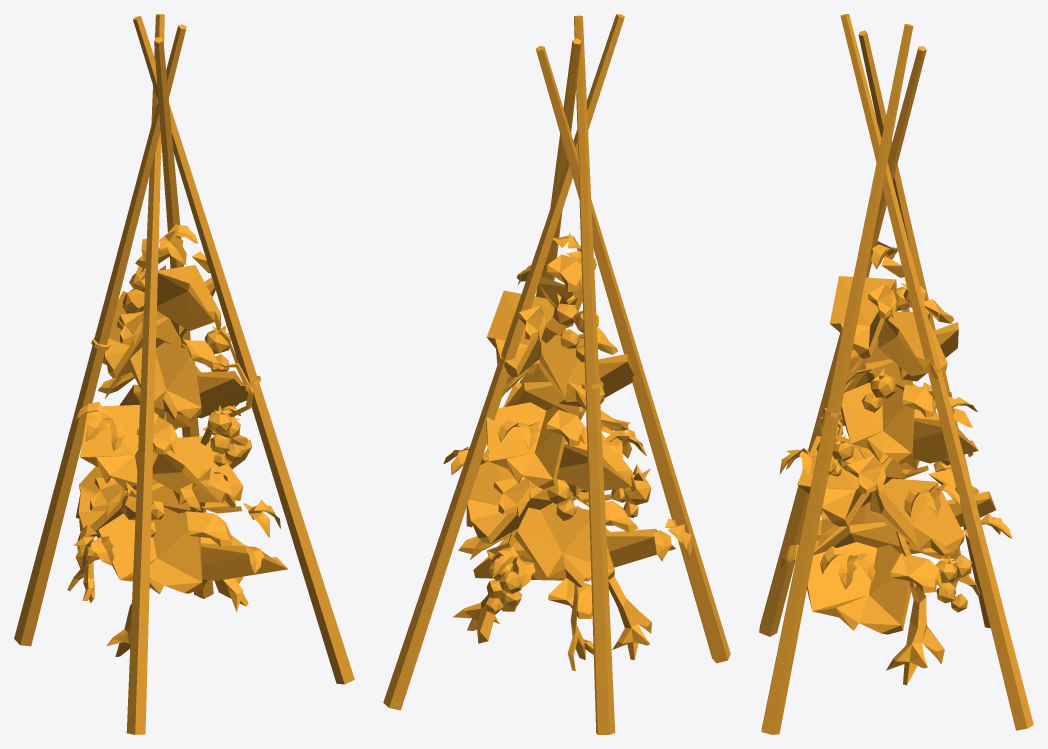
File: SM_Tomato_Ripe_Group_A.fbx
3 renders of one model, left to right at view 1: azimuth 30°, elevation 25°; view 2: azimuth 150°, elevation 25°; view 3: azimuth 270°, elevation 25°, orthographic.
Parts seen in each view (by area): view 1: tomato-ripe-group-a; view 2: tomato-ripe-group-a; view 3: tomato-ripe-group-a.
Part boxes in pixels (bbox=[...]): tomato-ripe-group-a: bbox=[14, 14, 354, 734]; tomato-ripe-group-a: bbox=[383, 14, 730, 734]; tomato-ripe-group-a: bbox=[759, 14, 1033, 734].
Bounding box in the file's own units: 1.07 × 2.89 × 1.11.
